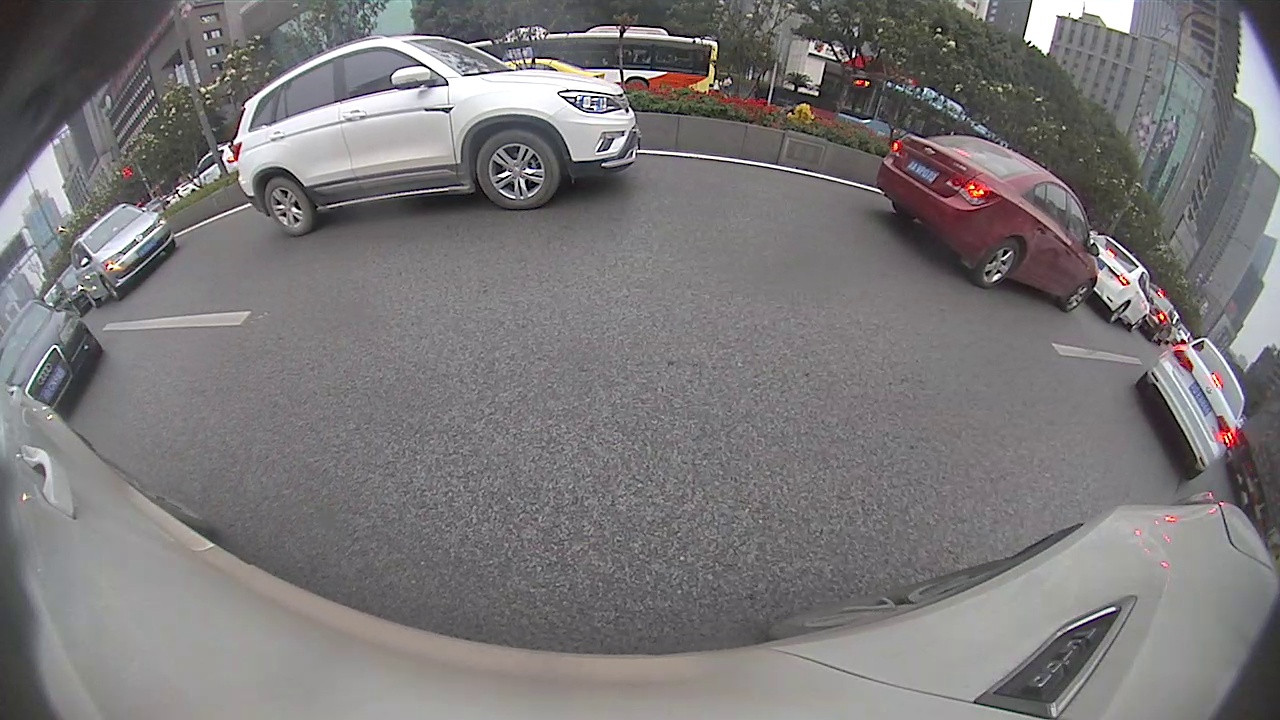car: (233, 34, 640, 239), (875, 133, 1103, 313), (1134, 330, 1247, 480), (1, 298, 104, 413), (68, 204, 177, 308), (1089, 233, 1157, 330)
front: (480, 134, 559, 209), (1063, 282, 1096, 311), (100, 274, 120, 303)
rear: (265, 180, 312, 234), (980, 239, 1021, 288)
